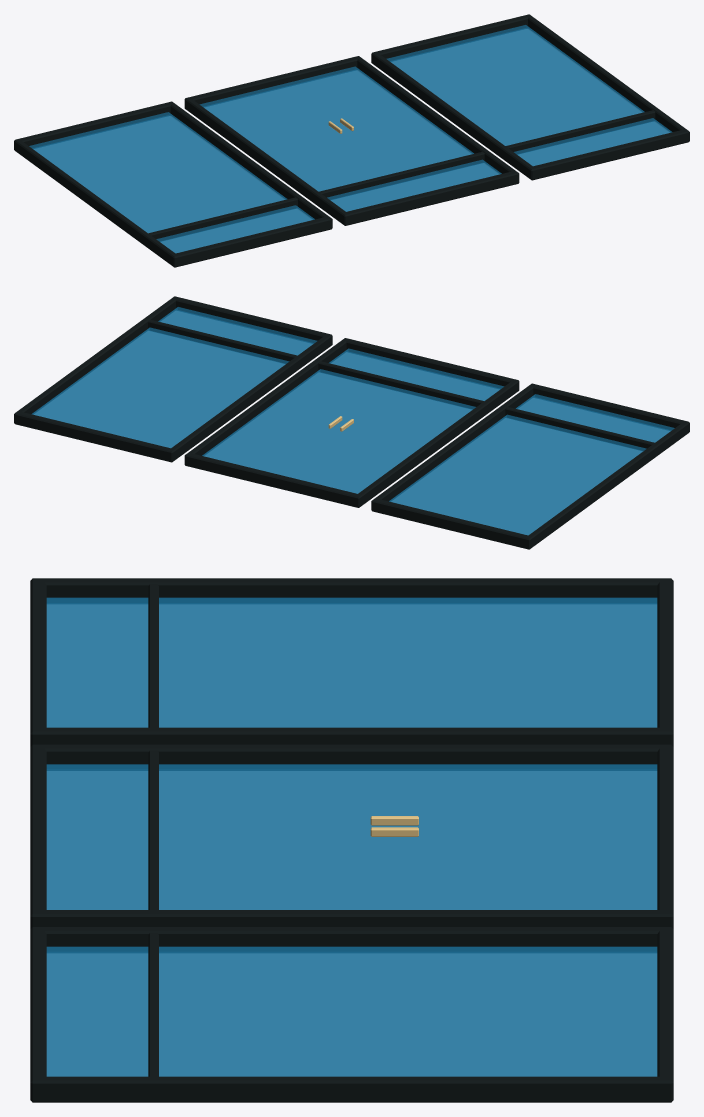
File: HealingGlass.obj
3 renders of one model, top to bottom at view 1: azimuth 30°, elevation 25°; view 2: azimuth 150°, elevation 25°; view 3: azimuth 270°, elevation 25°, orthographic. The views are drawn at different scales.
Visible parts, largest first — view 1: HealingGlass; view 2: HealingGlass; view 3: HealingGlass.
Part boxes in pixels (x1=…): HealingGlass: x1=14, y1=14, x2=689, y2=267; HealingGlass: x1=14, y1=296, x2=689, y2=549; HealingGlass: x1=30, y1=578, x2=673, y2=1102.
Size of the model in its own units: 445 by 12 by 240.
